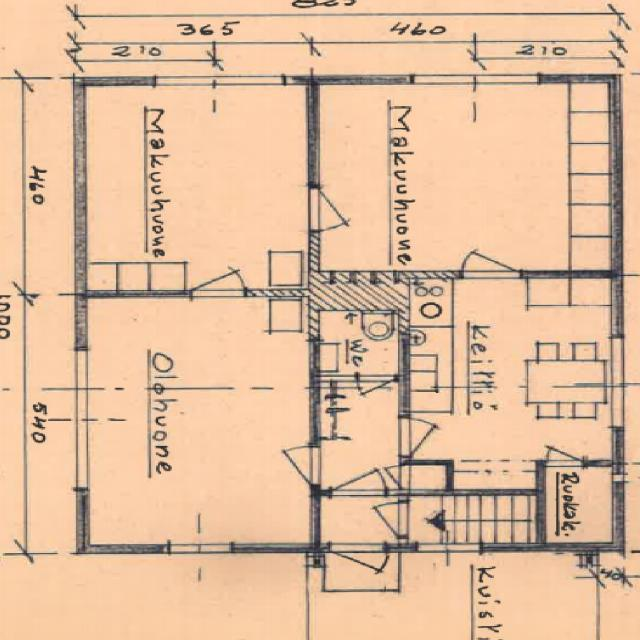door: (307, 186, 380, 232), (461, 227, 521, 278), (330, 543, 388, 595), (253, 446, 318, 485), (331, 450, 385, 496), (397, 418, 462, 456), (191, 250, 244, 296), (352, 503, 409, 537), (355, 374, 395, 408), (548, 434, 582, 466), (366, 465, 408, 487)
